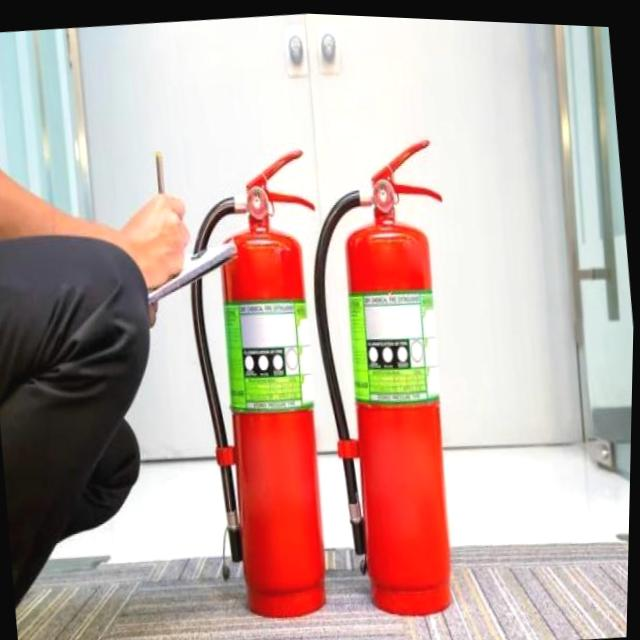FireExtinguisher: (288, 126, 490, 625), (163, 131, 362, 629)
